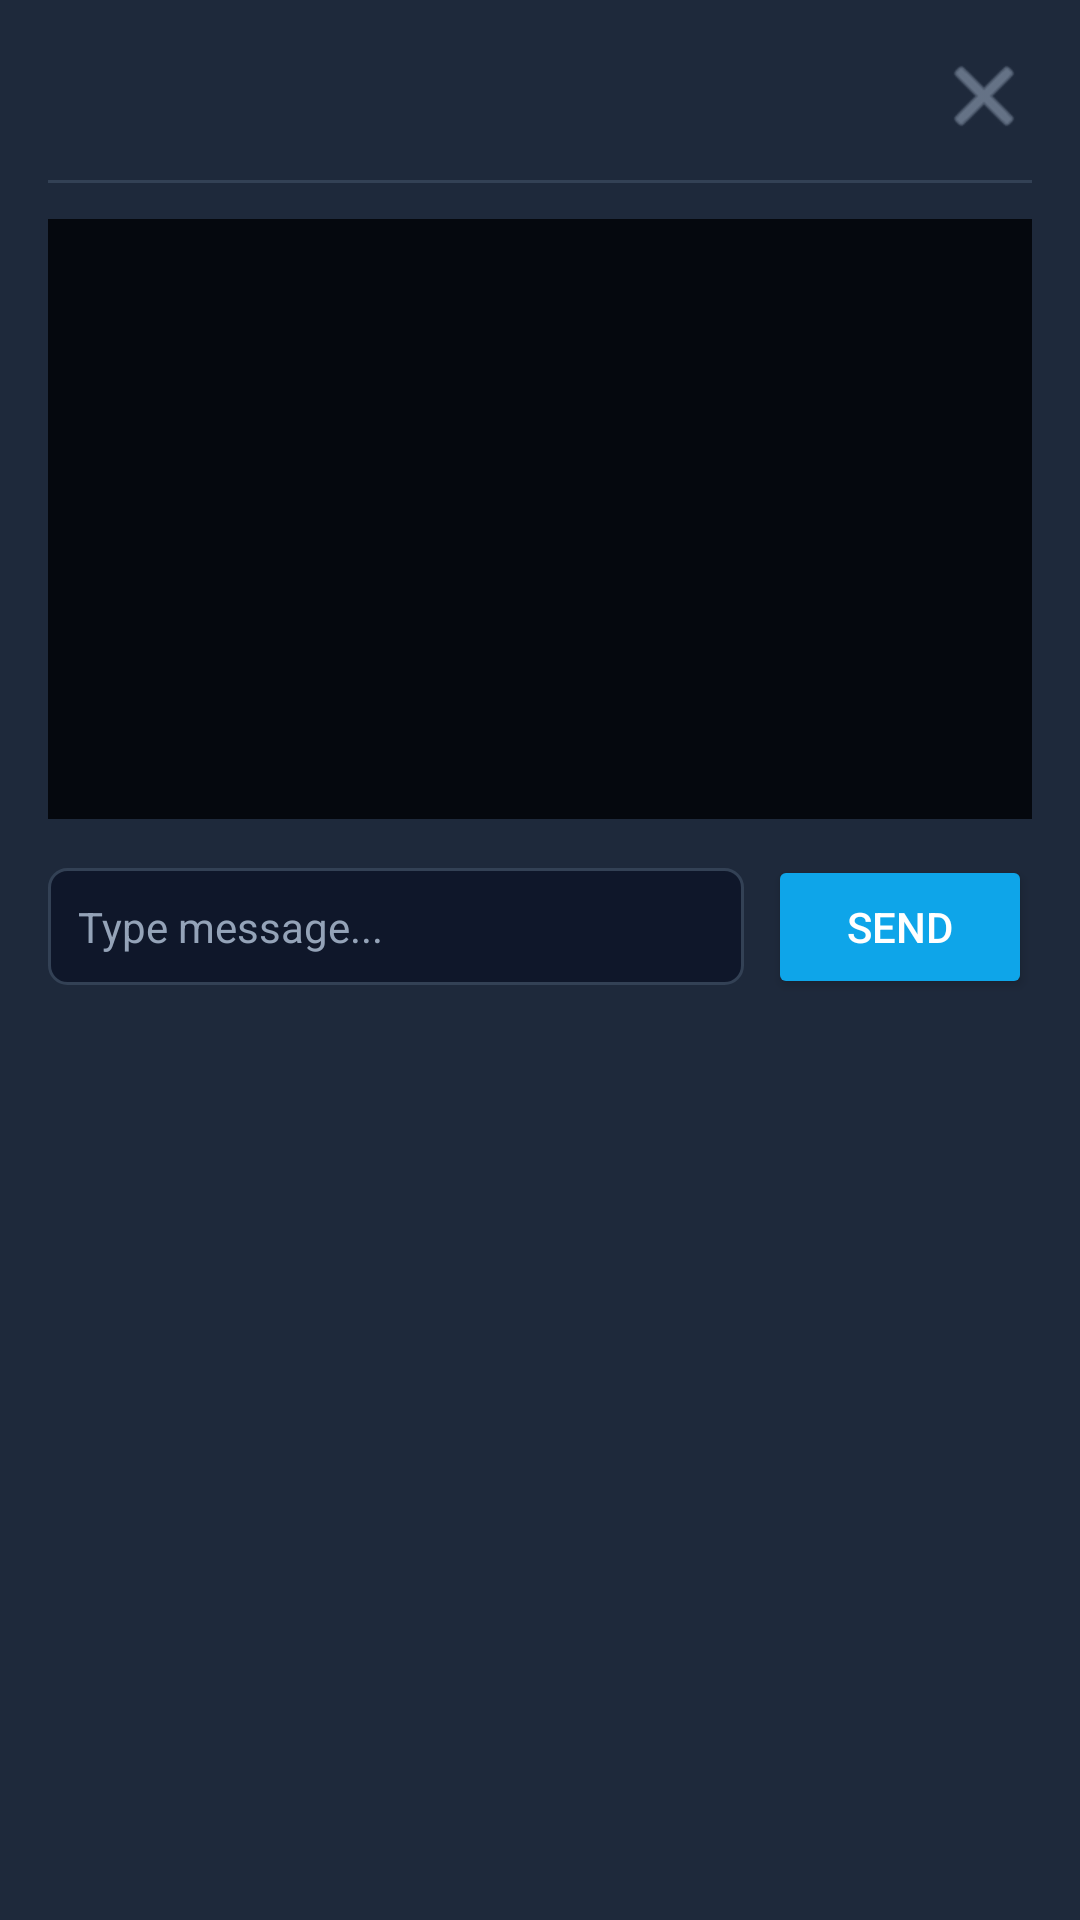

Icons on this 1080*1920 Android screen, each with the point to tap as [x,y]:
Close: [984,96]
